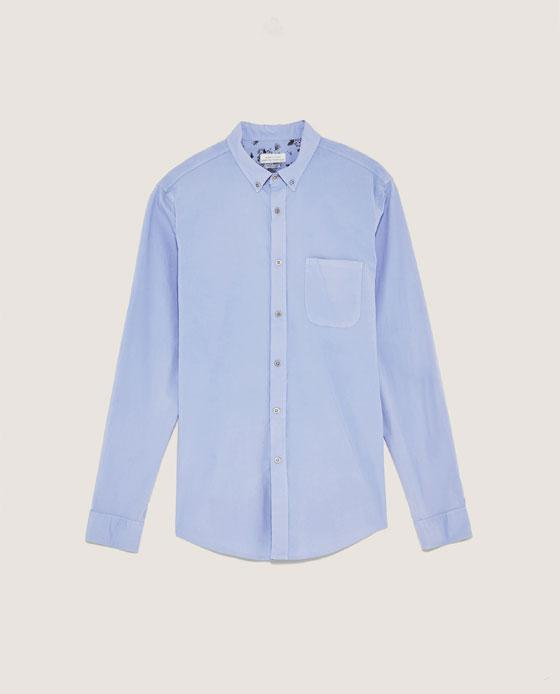teeshirt: (83, 121, 481, 555)
